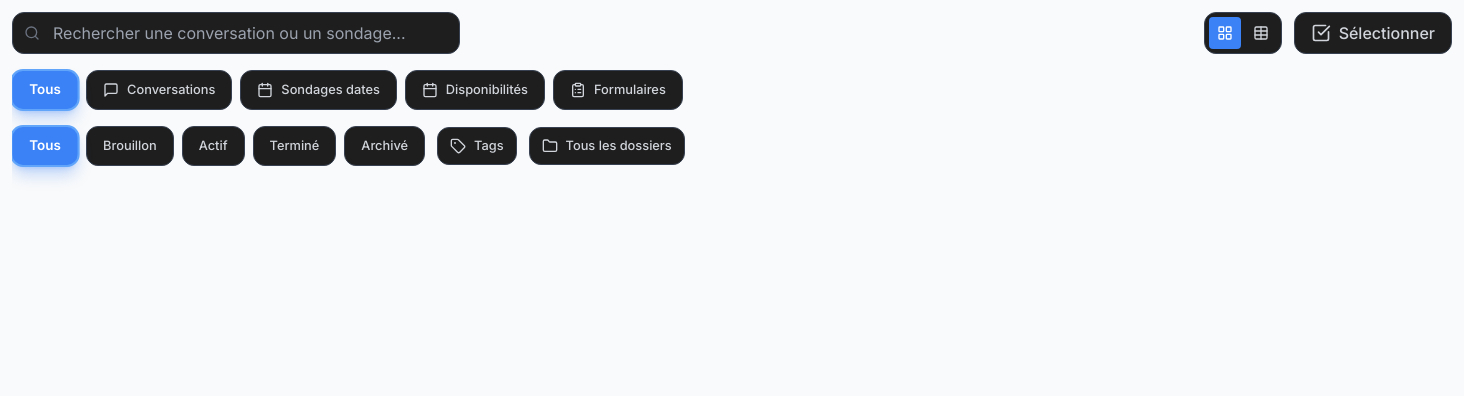
Scenario: DashboardFilters › should open tags menu when clicking tags button
Click the button "Tags" at x=477, y=146, box [437, 127, 517, 165]
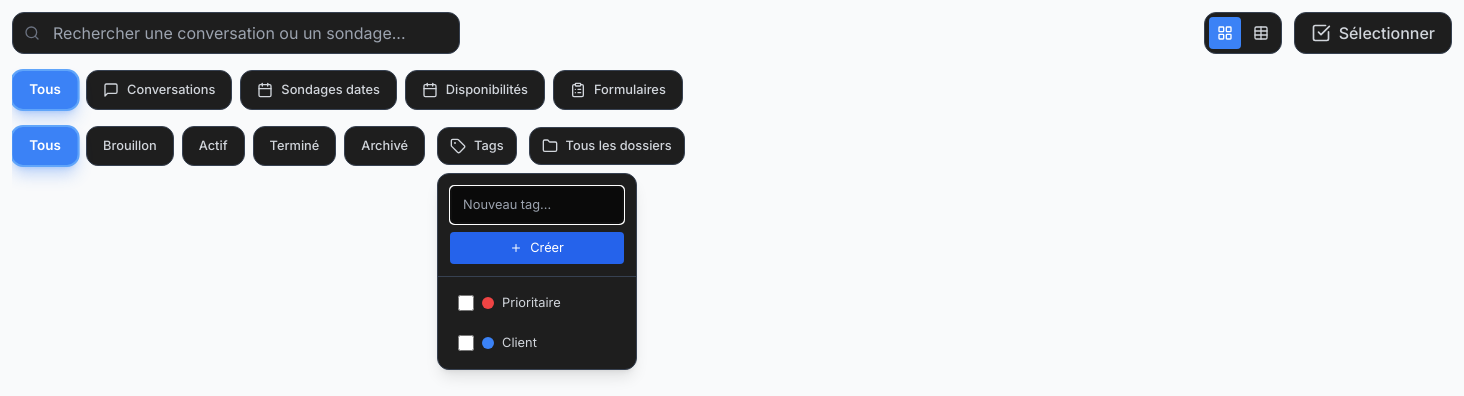
Expected: the field with placeholder "Nouveau tag..." is shown, [450, 186, 624, 224]
